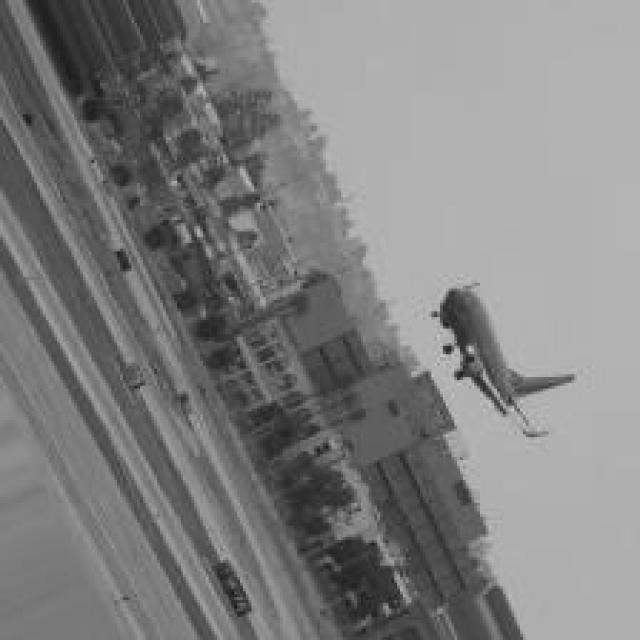aeroplane: (426, 273, 580, 442)
